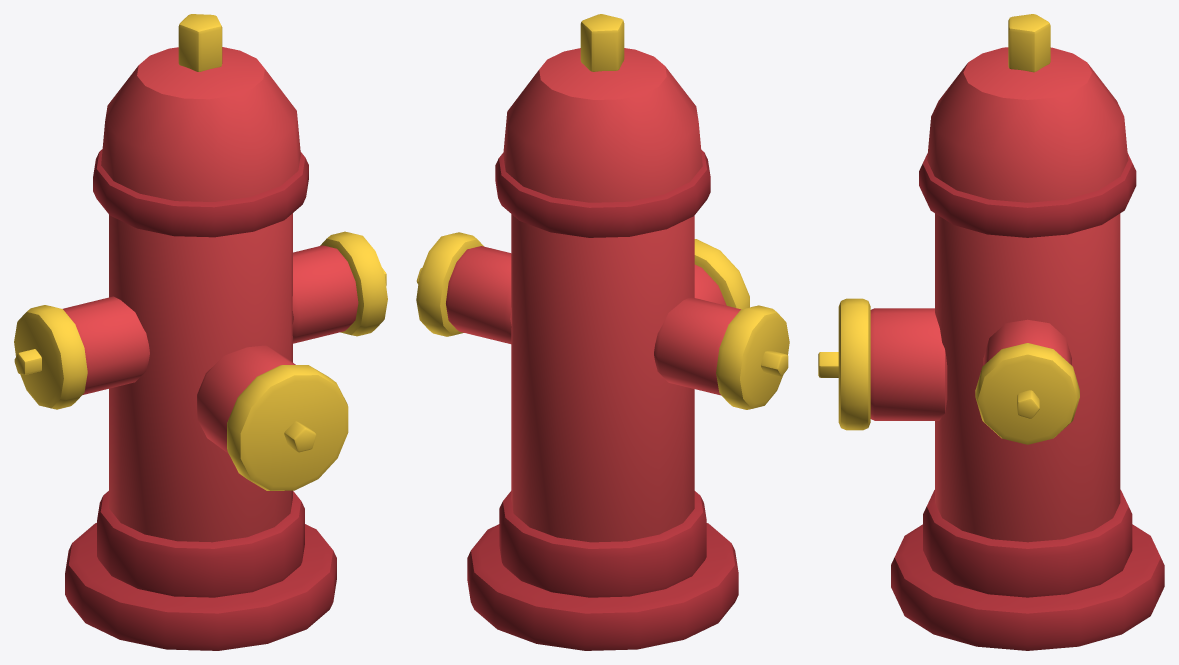
Rendered from hidrante.glb.
The picture shows the model from 3 angles, left to right: view 1: azimuth 30°, elevation 25°; view 2: azimuth 150°, elevation 25°; view 3: azimuth 270°, elevation 25°; orthographic projection.
Visible parts, largest first — view 1: hidrante; view 2: hidrante; view 3: hidrante.
Boxes of the visible parts, left/top/right/bottom form: hidrante: left=14, top=14, right=387, bottom=650; hidrante: left=416, top=14, right=789, bottom=650; hidrante: left=818, top=14, right=1164, bottom=650.
Bounding box in the file's own units: 0.52 × 0.79 × 0.43.
1 material, 1 textured.
